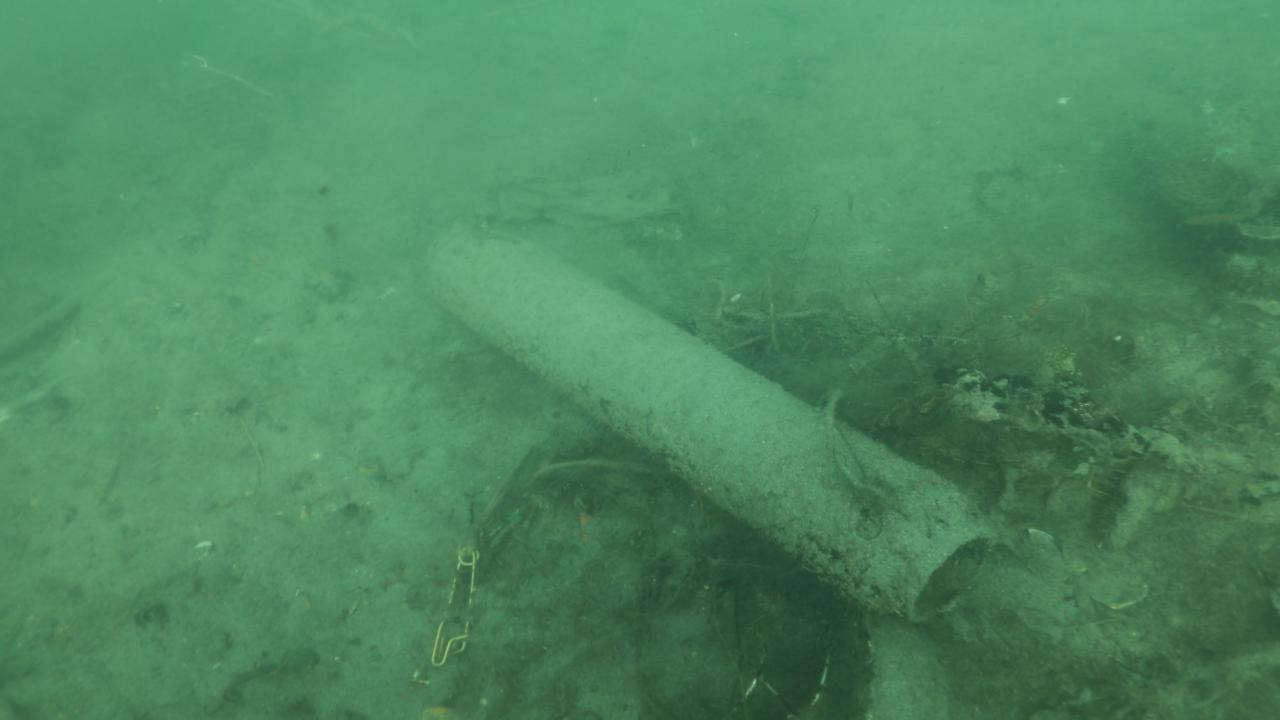eel fish trap: (416, 212, 997, 624)
